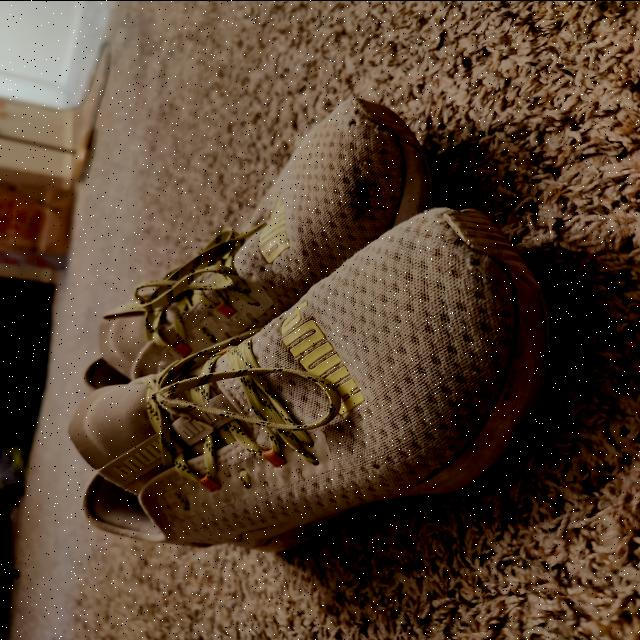white shoes: (65, 94, 538, 550)
